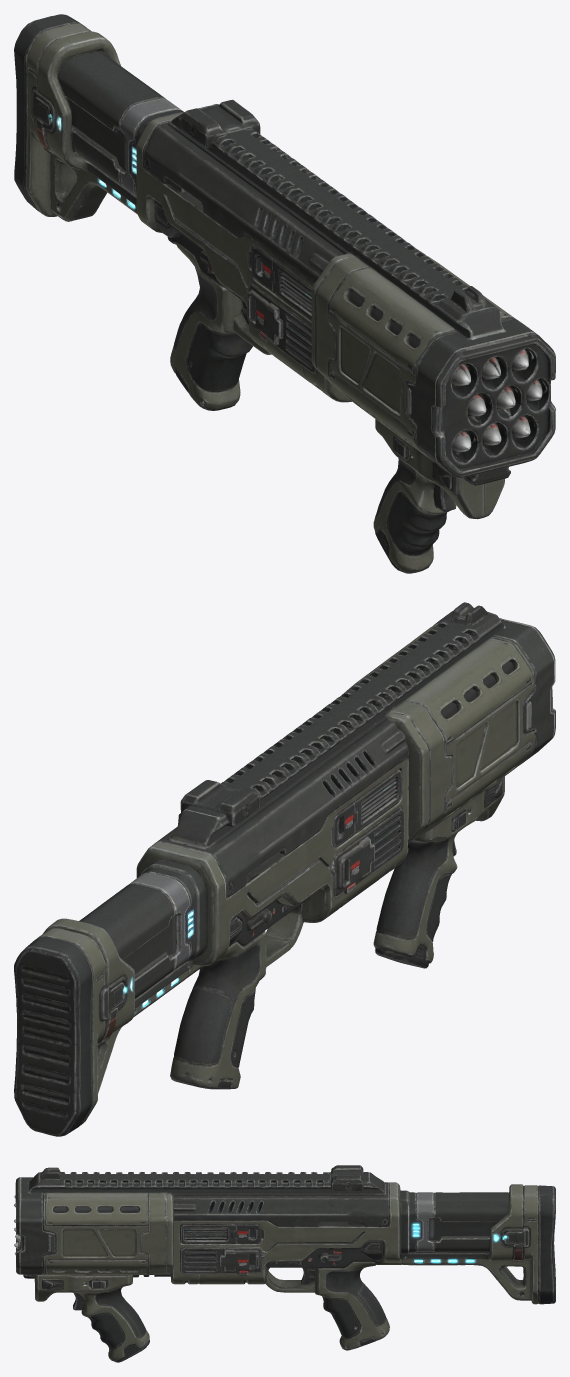
Rendered from swarm_launcher.high.glb.
The picture shows the model from 3 angles, top to bottom: view 1: azimuth 30°, elevation 25°; view 2: azimuth 150°, elevation 25°; view 3: azimuth 270°, elevation 25°; orthographic projection. The views are drawn at different scales.
Parts seen in each view (by area): view 1: model; view 2: model; view 3: model.
Boxes of the visible parts, x1=… form: model: x1=14, y1=14, x2=555, y2=573; model: x1=14, y1=602, x2=555, y2=1136; model: x1=14, y1=1165, x2=555, y2=1362.
Bounding box in the file's own units: 0.1475 × 0.3685 × 0.9501.
1 material, 1 textured.
